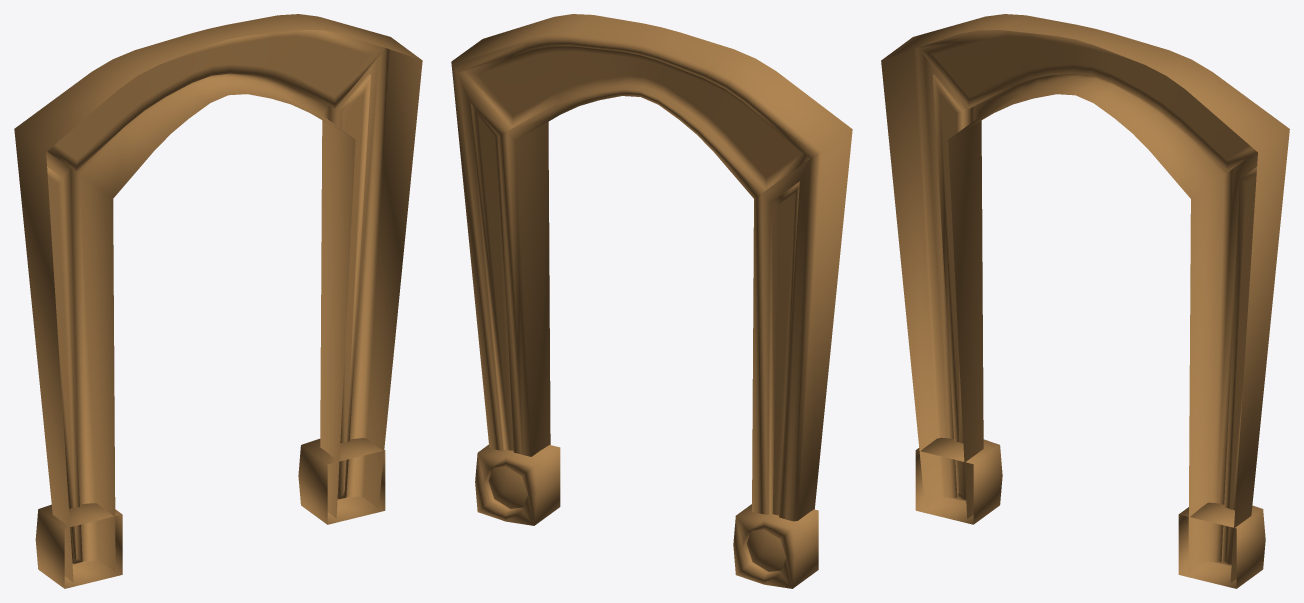
The model's file is props_doorFrame_5.fbx.
3 renders of one model, left to right at view 1: azimuth 30°, elevation 25°; view 2: azimuth 150°, elevation 25°; view 3: azimuth 330°, elevation 25°, orthographic.
Visible parts, largest first — view 1: door_frame5; view 2: door_frame5; view 3: door_frame5.
Part boxes in pixels (bbox=[...]): door_frame5: bbox=[14, 14, 422, 588]; door_frame5: bbox=[451, 14, 852, 588]; door_frame5: bbox=[881, 14, 1289, 588].
Size of the model in its own units: 1.92 by 0.3347 by 2.51.
